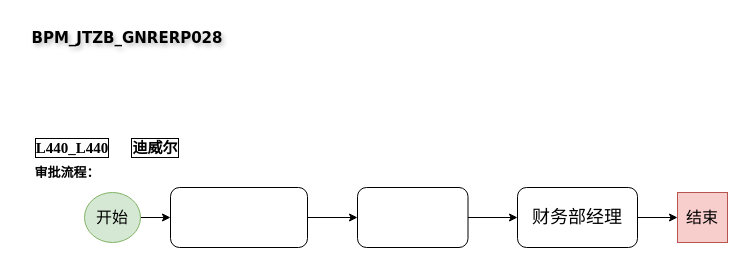
This 745x265 diagram has some shape labels left out. Here are the shapes that lost their labels. From the top down, the centre of each, then its label:
At point 239,217: "产业化推广中心 / 综合办公室".
At point 412,217: "主管领导".
